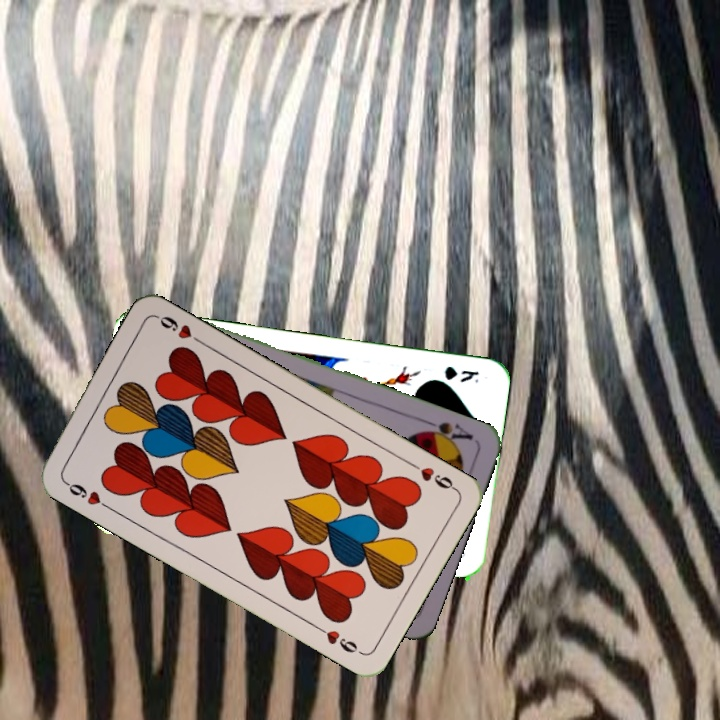GK: (440, 362, 482, 386)
H9: (59, 476, 113, 512), (405, 458, 459, 493)
SA: (416, 415, 476, 449)
